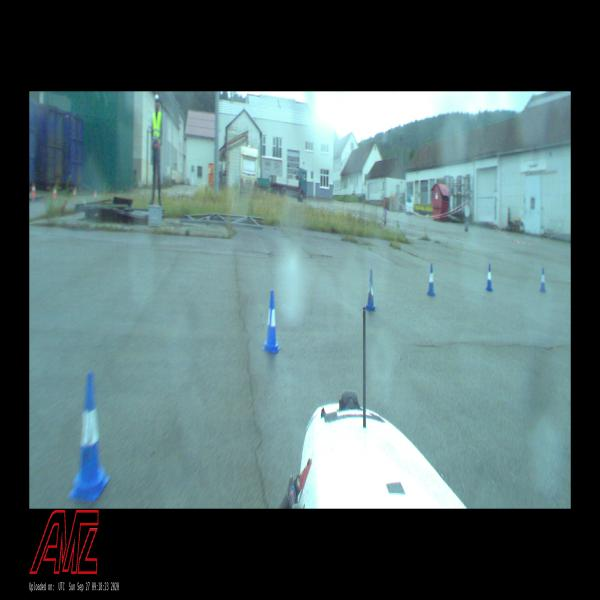blue_cone: (68, 373, 110, 501), (262, 291, 280, 353), (366, 270, 376, 311), (427, 264, 435, 296), (486, 264, 493, 292), (540, 268, 546, 292)
